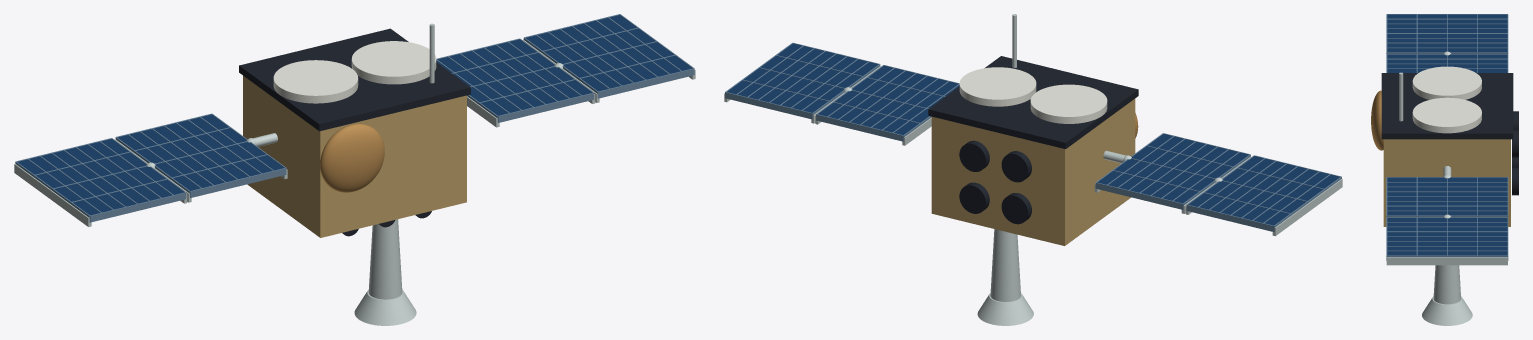
File: hayabusa2.glb
3 views of the same model, side by side, from view 1: azimuth 30°, elevation 25°; view 2: azimuth 150°, elevation 25°; view 3: azimuth 270°, elevation 25° (orthographic). The views are drawn at different scales.
Visible parts, largest first — view 1: body, photovoltaic-panel (×4), solar (×4), antenna, instruments, payload; view 2: body, photovoltaic-panel (×4), solar (×4), antenna, instruments, propulsion; view 3: photovoltaic-panel (×4), body, solar (×5), antenna, instruments, payload, propulsion.
Part boxes in pixels (bbox=[...]): body: bbox=[239, 28, 470, 237]; photovoltaic-panel (×4): bbox=[17, 15, 692, 215]; solar (×4): bbox=[14, 14, 695, 226]; antenna: bbox=[273, 23, 436, 103]; instruments: bbox=[342, 211, 431, 325]; payload: bbox=[320, 123, 384, 192]; body: bbox=[928, 56, 1138, 245]; photovoltaic-panel (×4): bbox=[727, 43, 1339, 225]; solar (×4): bbox=[724, 42, 1342, 236]; antenna: bbox=[959, 14, 1107, 123]; instruments: bbox=[977, 229, 1033, 325]; propulsion: bbox=[959, 140, 1031, 224]; photovoltaic-panel (×4): bbox=[1387, 14, 1507, 255]; body: bbox=[1381, 73, 1513, 226]; solar (×5): bbox=[1386, 14, 1508, 265]; antenna: bbox=[1399, 66, 1481, 133]; instruments: bbox=[1422, 265, 1472, 325]; payload: bbox=[1371, 90, 1383, 150]; propulsion: bbox=[1512, 111, 1518, 195].
Size of the model in its own units: 4.97 by 2.38 by 1.28.
